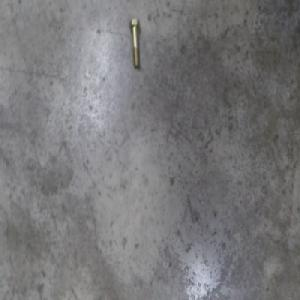Bolt: (130, 23, 144, 71)
